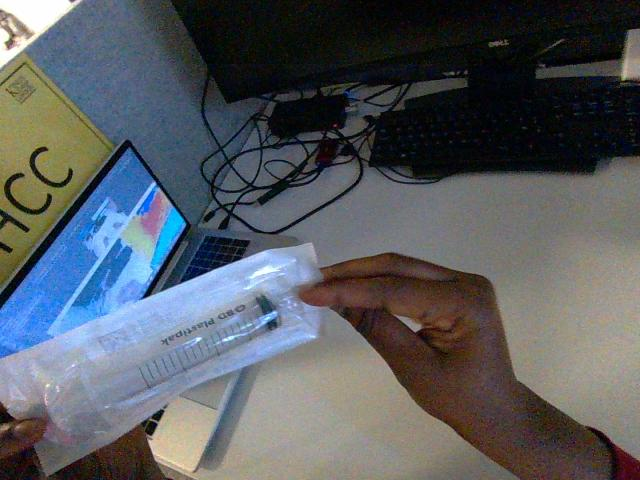syringe: (0, 244, 321, 474)
